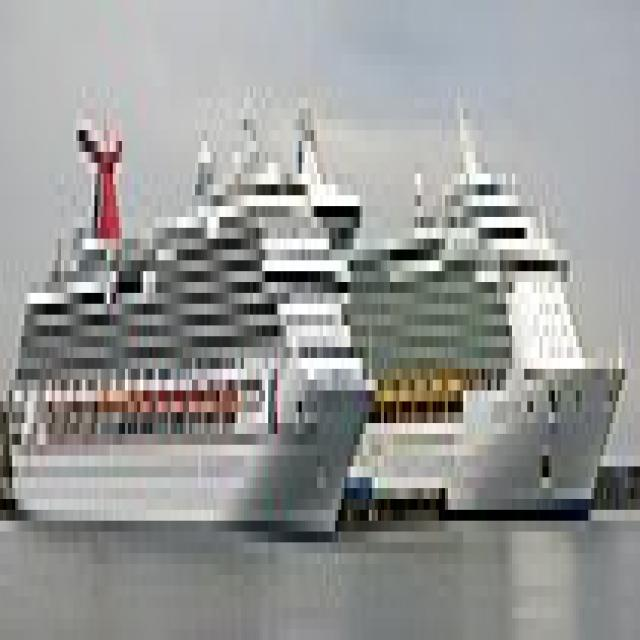Cruise: (3, 98, 375, 520), (314, 65, 625, 510)
